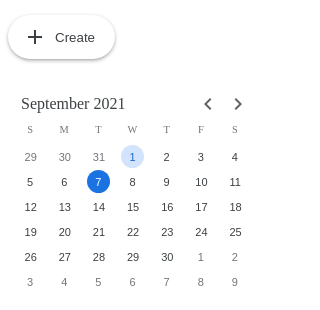
Test: Sidebar › should display next month name and days when clicking next month button
What coordinates should you click on to do the following:
click the button with test id "next-month-button"
I would click on:
 (238, 104)
Its box is [223,89,253,119].
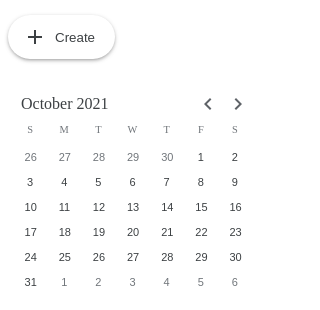
Result: the text with test id "month-name" reads "October 2021" at [21,95,108,112]
Result: the button "10" is shown at [19,195,42,218]
Result: the button "31" is shown at [19,270,42,293]
